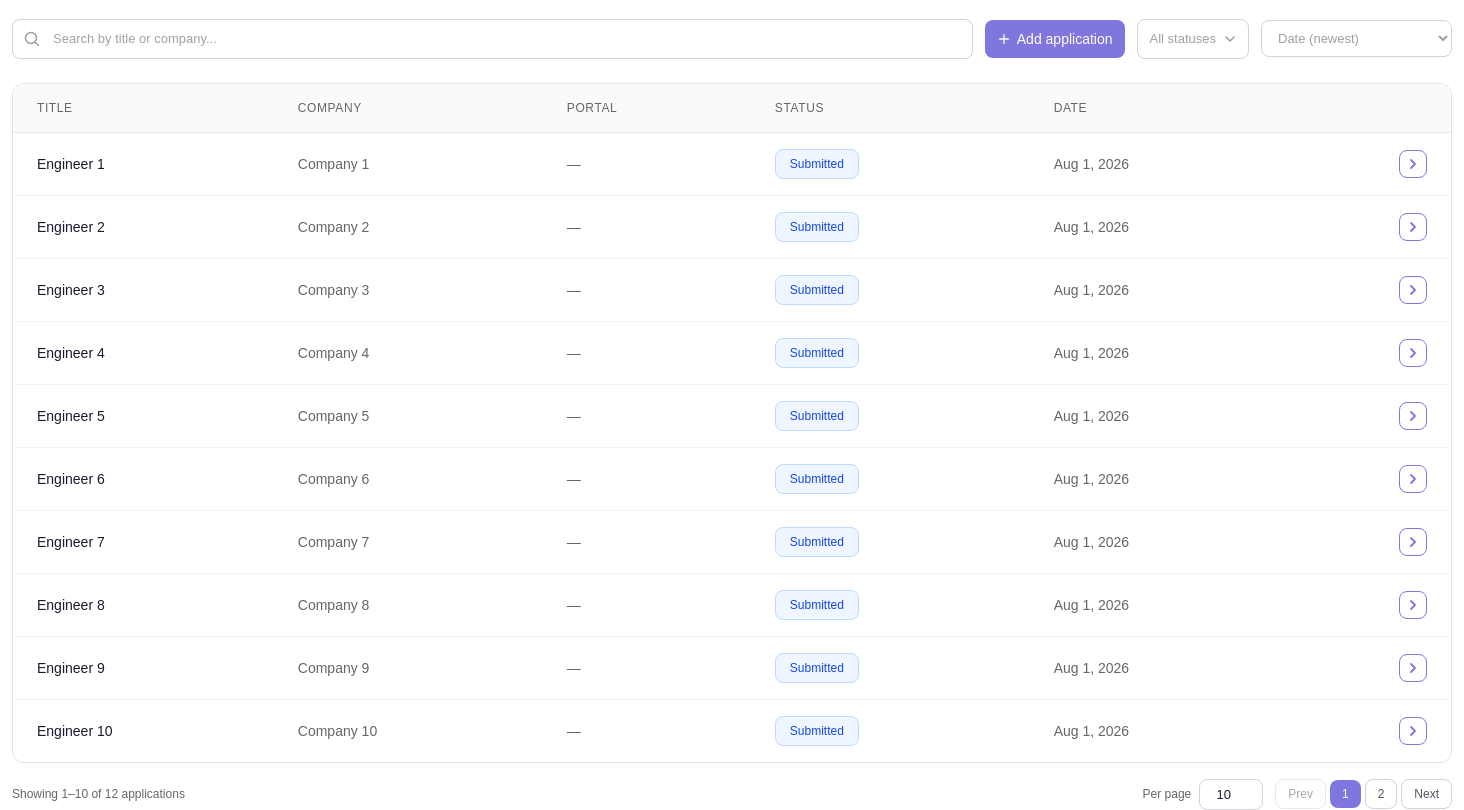
Test: JobsList › pagination › changes the number of rows via the per-page input and persists it
The width and height of the screenshot is (1464, 810).
Expected: the text "Engineer 1" is shown, [13, 132, 274, 195]
Replace the text in the number field labelled "Per page" with "5" at (1231, 794), box [1199, 778, 1263, 809]
(page scrolled)
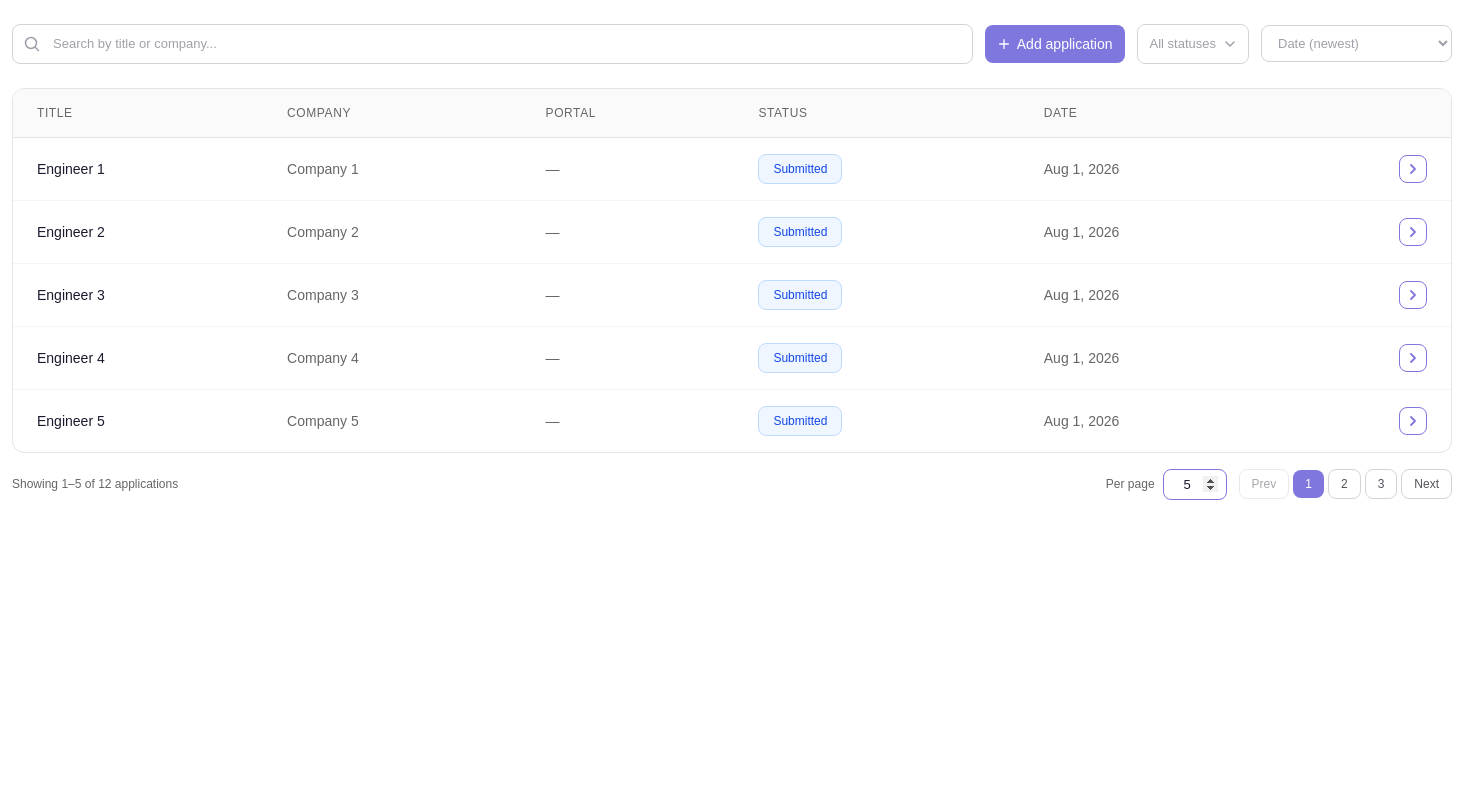
Now the text "Engineer 6" is gone
Now the text "Showing 1–5 of 12 applications" is shown, box [12, 476, 178, 492]
